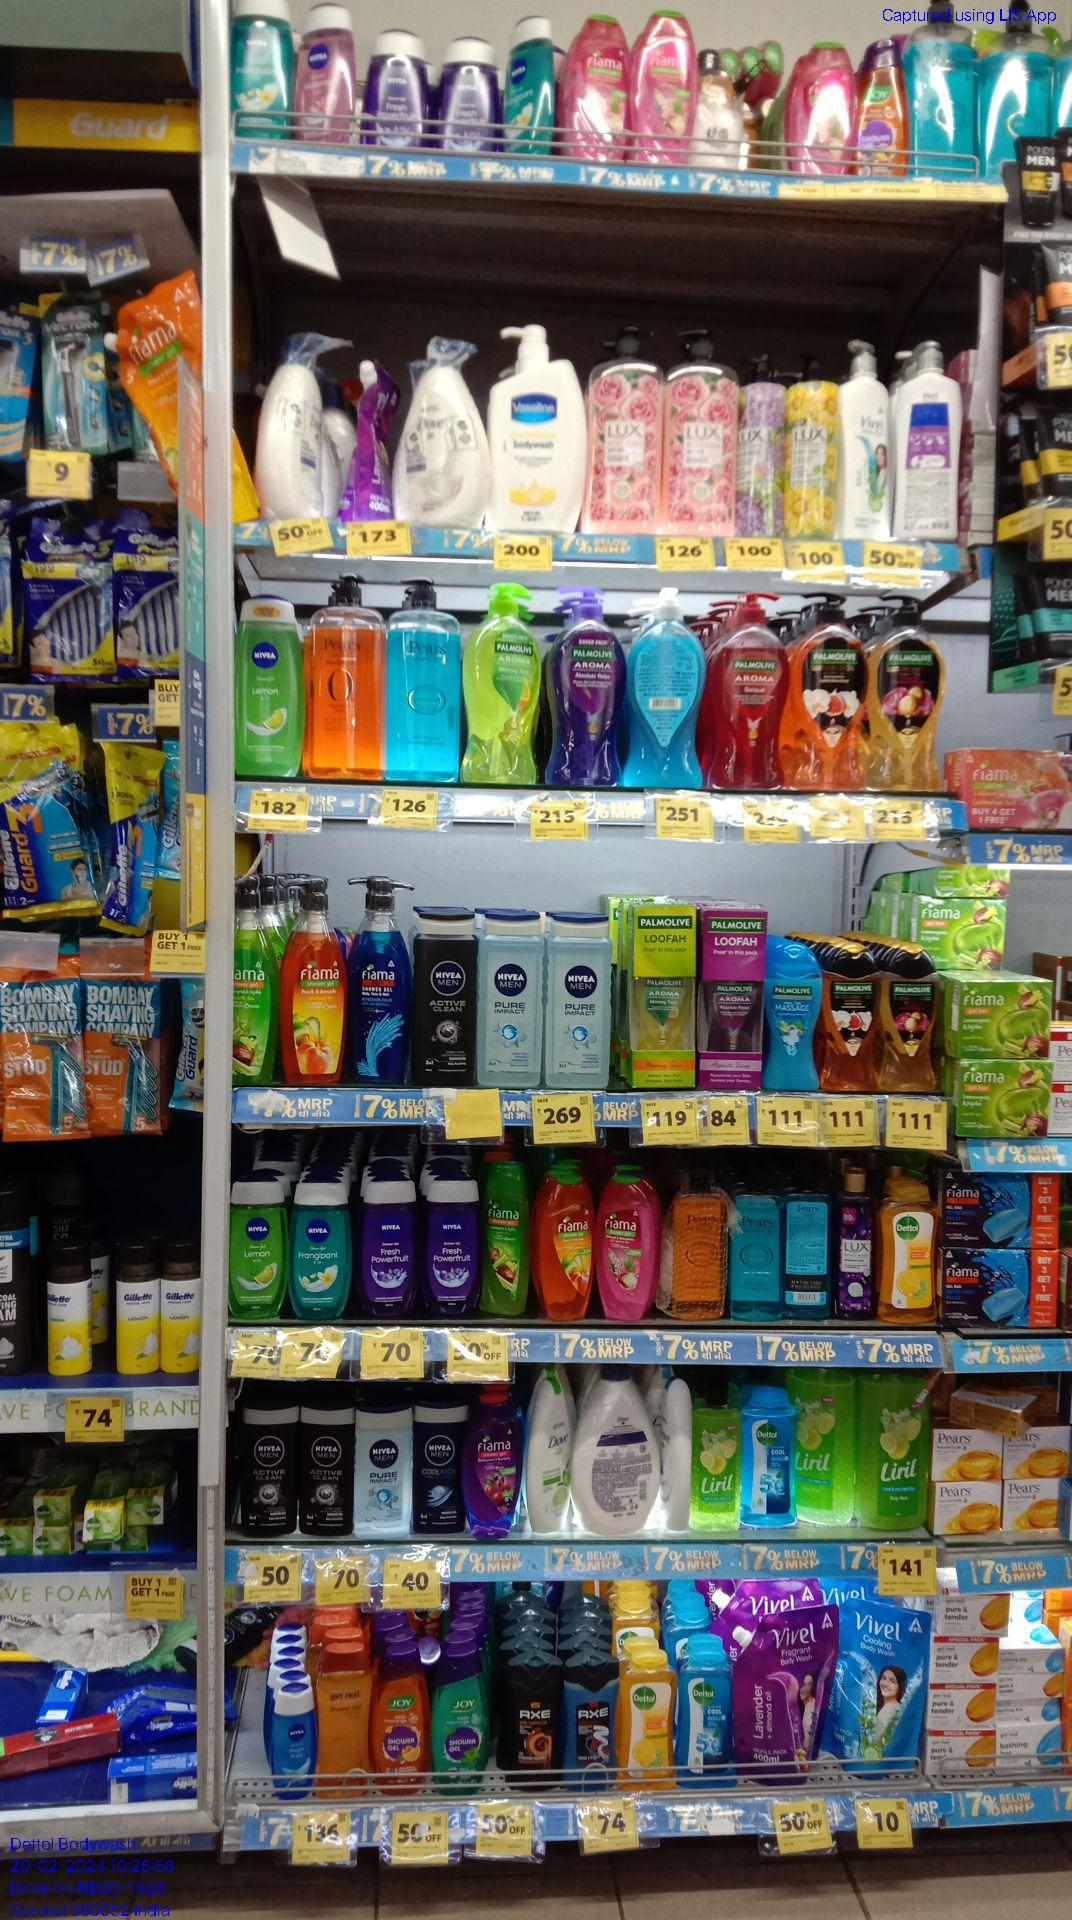Dettol_Bodywash_Cool: (675, 1639, 736, 1789), (877, 1175, 939, 1321), (746, 1390, 794, 1526)
Dettol_Bodywash_Refresh: (618, 1647, 672, 1785)
Dove_Refreshing_Body_Wash_250ML: (526, 1375, 570, 1536)
Fiama_Shower_Gel_Lemongrass_and_Jojoba_250ML: (483, 1167, 529, 1320)
Fiama_Shower_Gel_Patchouli_and_Macadamia_250ML: (567, 9, 632, 164), (636, 8, 695, 164), (595, 1175, 654, 1319)
Fiama_Shower_Gel_Peach_and_Avocado_250ML: (533, 1168, 592, 1327)
Get_Real_Shower_Gel_Moisturising_Glycerin_300ML: (316, 1643, 368, 1797)
Joy_Shower_Gel_Mandarin_and_Lemongrass_250ML: (372, 1646, 429, 1796), (856, 41, 906, 175)
Joy_Shower_Gel_Mint_and_Eucalyptus_250ML: (431, 1648, 491, 1796)
Liril_Lime_and_Tea_Tree_Oil_Body_Wash_250ML: (692, 1375, 741, 1528)
Lux_Black_Orchid_Scent_and_Juniper_Oil_Body_Wash_245ML: (837, 1172, 874, 1319)
Nivea_Shower_Gel_Frangipani_and_Oil_250ML: (287, 1178, 356, 1321), (232, 0, 298, 144), (792, 37, 852, 177), (505, 17, 554, 158)
Nivea_Shower_Gel_Fresh_Powerfruit_250ML: (360, 26, 427, 149), (422, 1179, 480, 1315), (360, 1184, 417, 1317), (436, 42, 497, 146)
Nivea_Shower_Gel_Lemon_and_Oil_250ML: (237, 599, 303, 779), (232, 1176, 285, 1317)
Nivea_Shower_Gel_Waterlily_and_Oil_250ML: (301, 3, 352, 140)
Palmolive_Aroma_Moments_Feel_The_Massage_Shower_Gel_250ML: (763, 947, 820, 1092)
Palmolive_Luminous_Oils_Invigorating_Macadamia_Oil_With_Peony_250ML: (882, 944, 936, 1092)
Palmolive_Luminous_Oils_With_White_Orchid_Shower_Gel_250ML: (827, 945, 878, 1093)
Pears_Pure_Glycerin_and_Mint_Extracts_Body_Wash_250ML: (732, 1175, 782, 1323)
